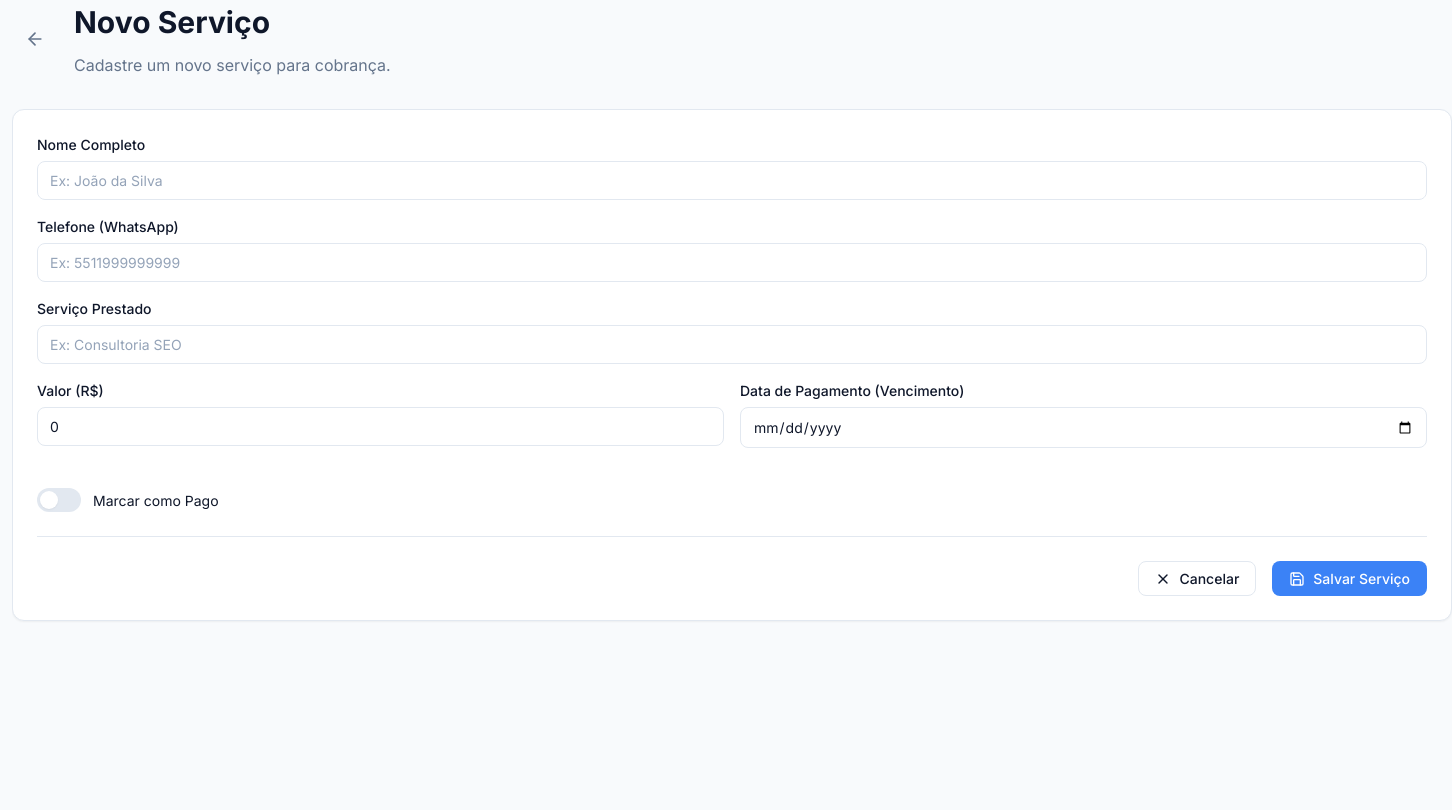
ServiceForm - Cadastro › deve exibir mensagem de validação quando o formulário for enviado sem preencher os campos
Clear the number field labelled "Valor (R$)". click: (380, 426)
box: x1=37 y1=407 x2=724 y2=446
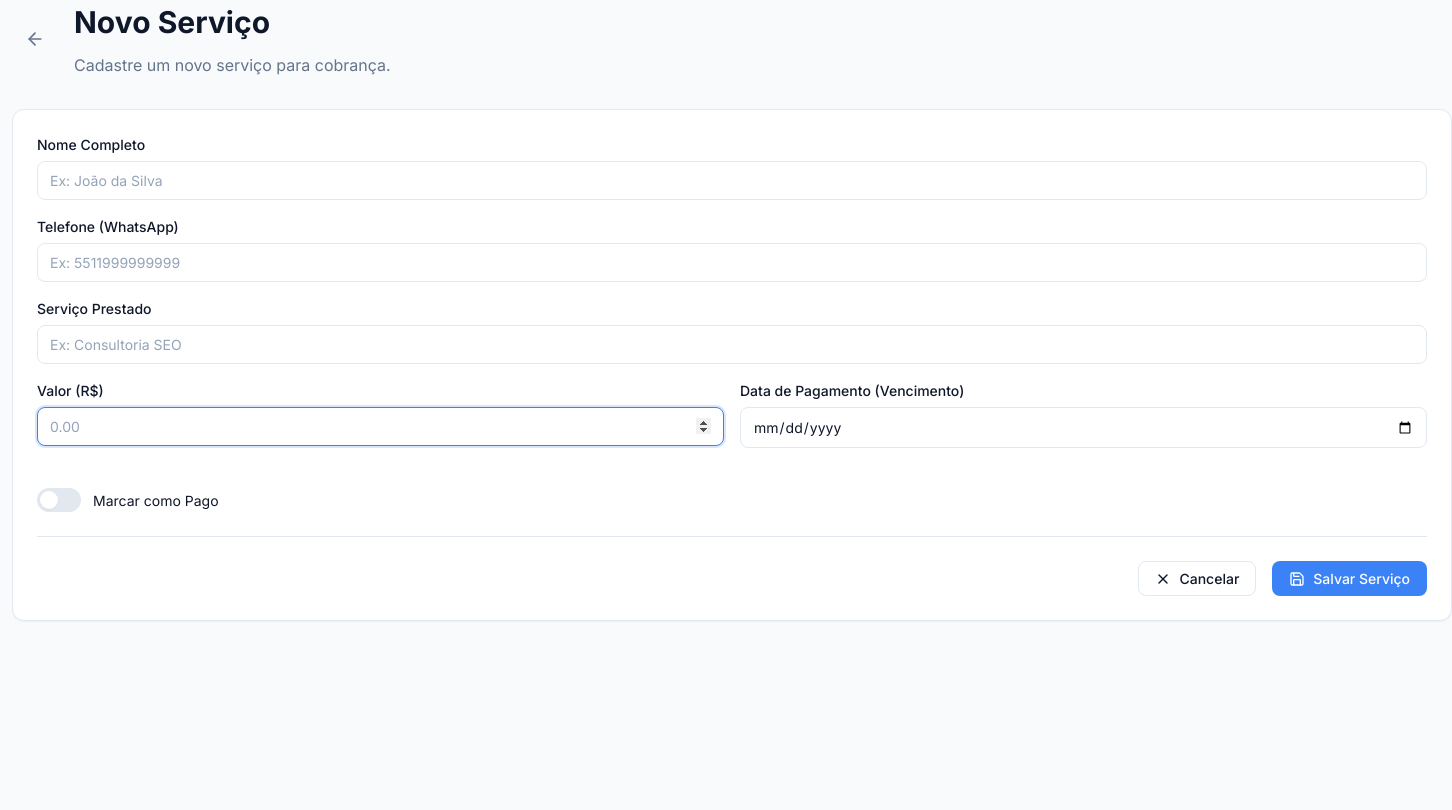
Click the button "Salvar Serviço". click: (1350, 578)
box: x1=1272 y1=561 x2=1427 y2=596
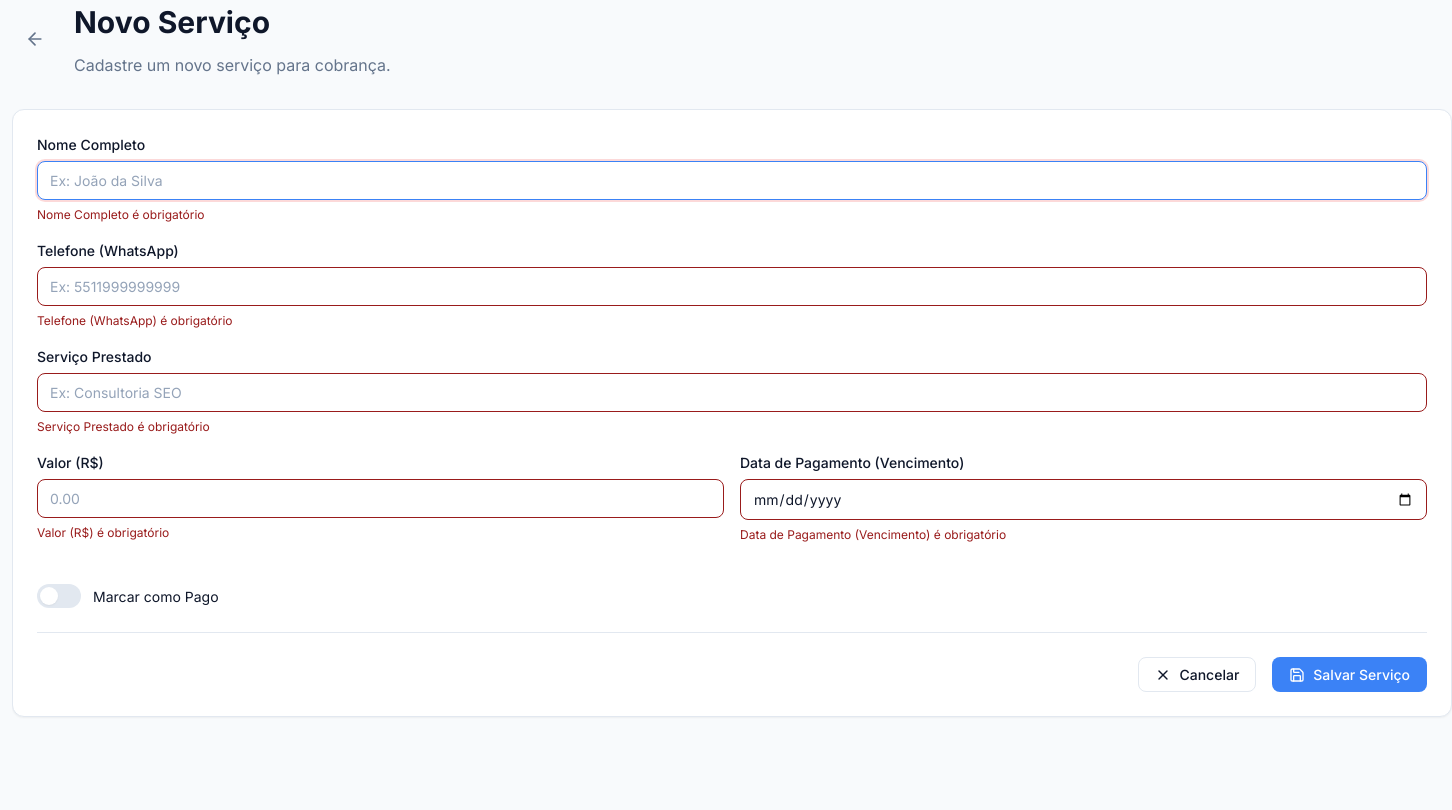
Result: the text "Nome Completo é obrigatório" is shown at x1=37 y1=207 x2=204 y2=222
Result: the text "Telefone (WhatsApp) é obrigatório" is shown at x1=37 y1=313 x2=232 y2=328
Result: the text "Serviço Prestado é obrigatório" is shown at x1=37 y1=419 x2=210 y2=434
